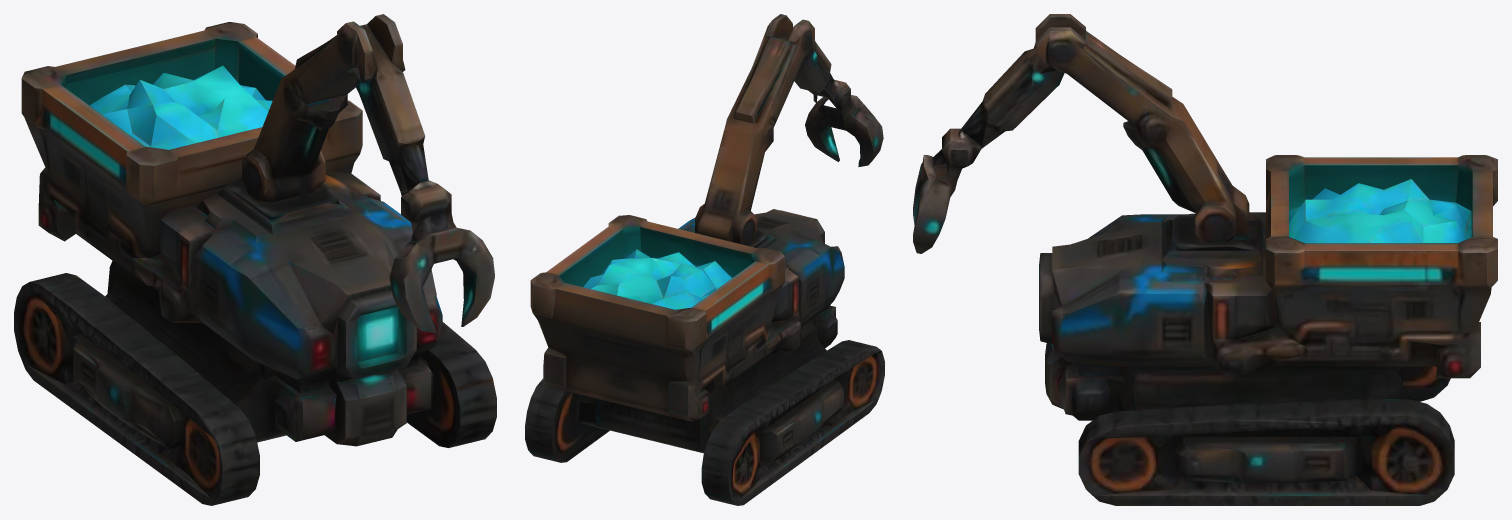
The model's file is drone-meshy.glb.
The picture shows the model from 3 angles, left to right: view 1: azimuth 30°, elevation 25°; view 2: azimuth 150°, elevation 25°; view 3: azimuth 270°, elevation 25°; orthographic projection. The views are drawn at different scales.
Visible parts, largest first — view 1: Mesh; view 2: Mesh; view 3: Mesh.
Boxes of the visible parts, x1,y1,x2,y2 form: Mesh: (14, 14, 496, 505); Mesh: (525, 14, 884, 505); Mesh: (913, 14, 1497, 505).
Size of the model in its own units: 0.3933 by 0.6 by 0.7512.
1 material, 1 textured.
